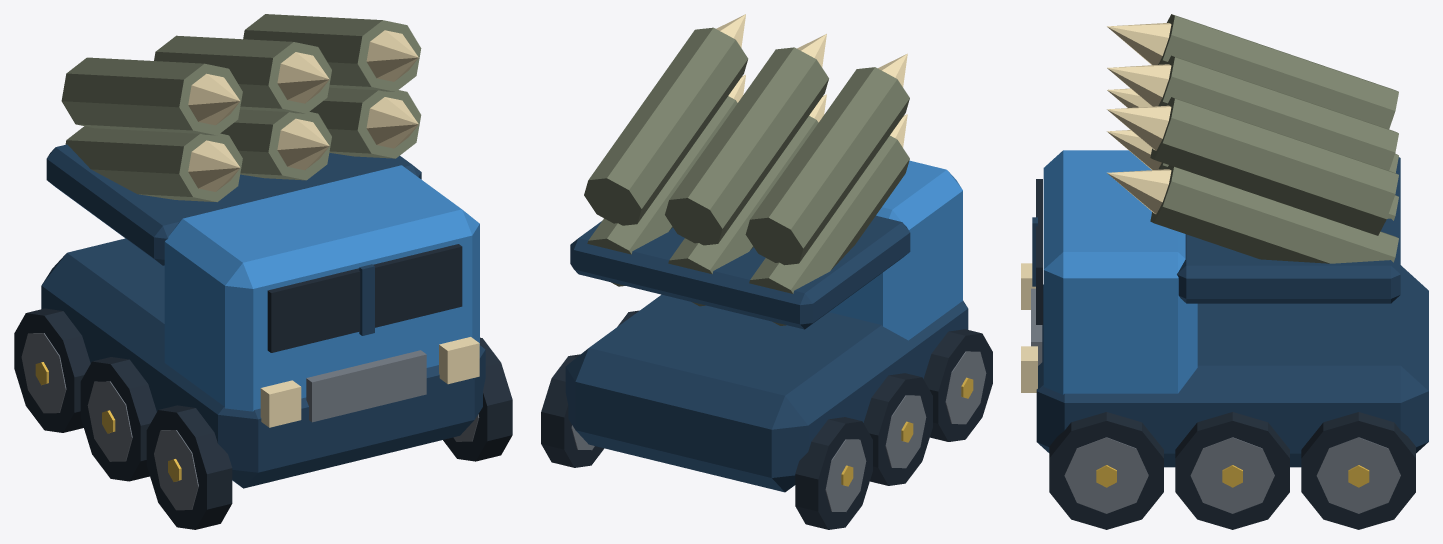
File: u_rocket_artillery.glb
The picture shows the model from 3 angles, left to right: view 1: azimuth 30°, elevation 25°; view 2: azimuth 150°, elevation 25°; view 3: azimuth 270°, elevation 25°; orthographic projection. The views are drawn at different scales.
Visible parts, largest first — view 1: u_rocket_artillery; view 2: u_rocket_artillery; view 3: u_rocket_artillery.
Part boxes in pixels (box(x1,y1,x2,y2)): u_rocket_artillery: box(14, 14, 512, 529); u_rocket_artillery: box(541, 14, 992, 529); u_rocket_artillery: box(1021, 14, 1428, 529).
Bounding box in the file's own units: 0.245 × 0.3164 × 0.291.
